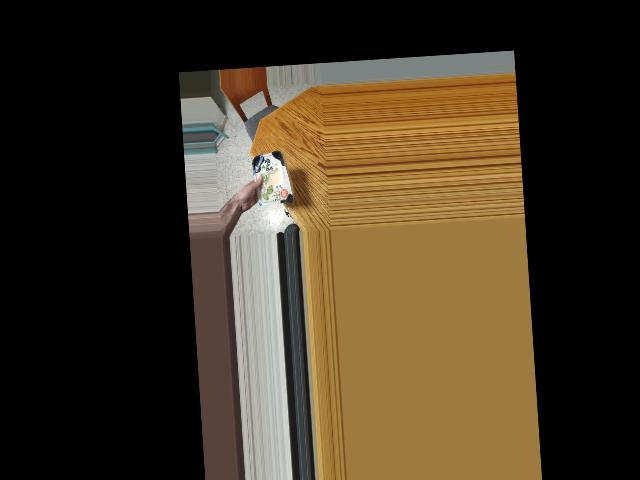cheese: (253, 151, 287, 202)
